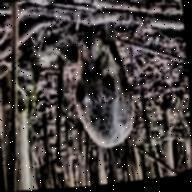boar: (68, 22, 137, 154)
